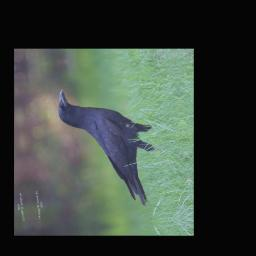Crow: (55, 79, 171, 216)
